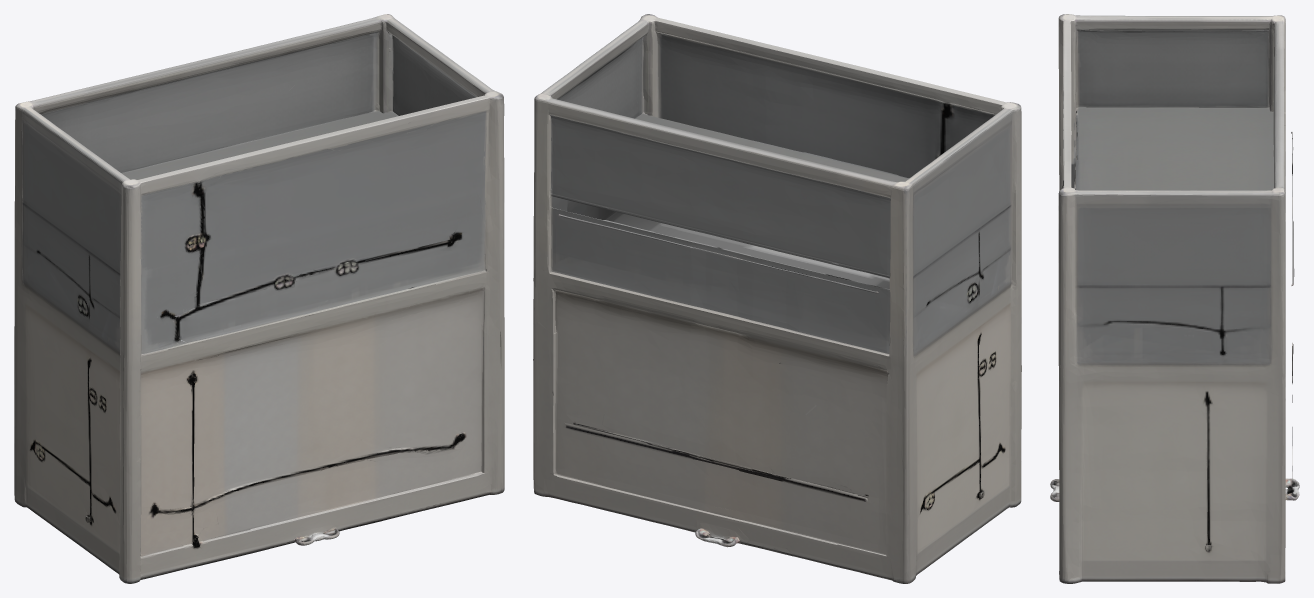
Rendered from vitrin.glb.
3 views of the same model, side by side, from view 1: azimuth 30°, elevation 25°; view 2: azimuth 150°, elevation 25°; view 3: azimuth 270°, elevation 25° (orthographic). The views are drawn at different scales.
Size of the model in its own units: 99.36 by 99.41 by 57.49.
Materials: 1 (1 with a texture image).
